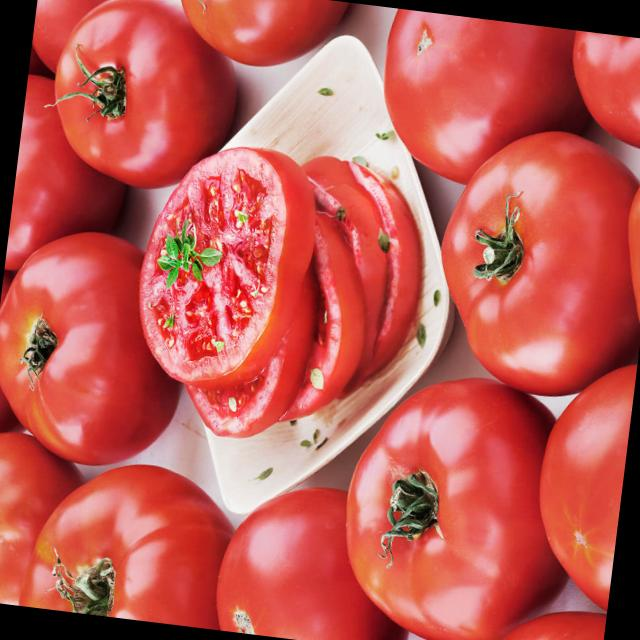tomato: (342, 365, 543, 636), (428, 123, 626, 394), (0, 205, 195, 476), (49, 0, 225, 190)
